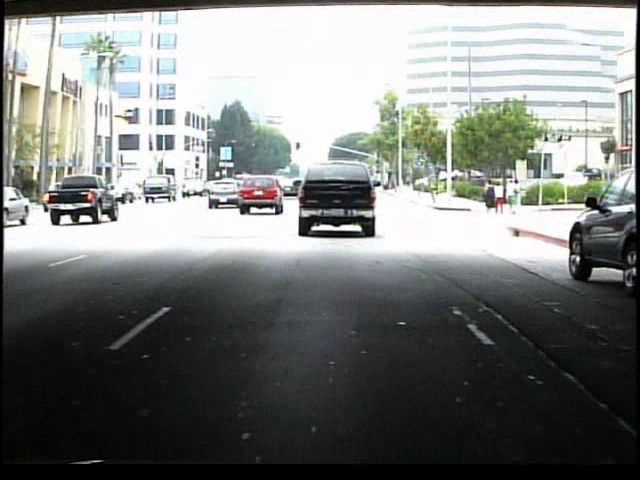person: (507, 177, 523, 216), (482, 179, 497, 216), (495, 180, 508, 215)
